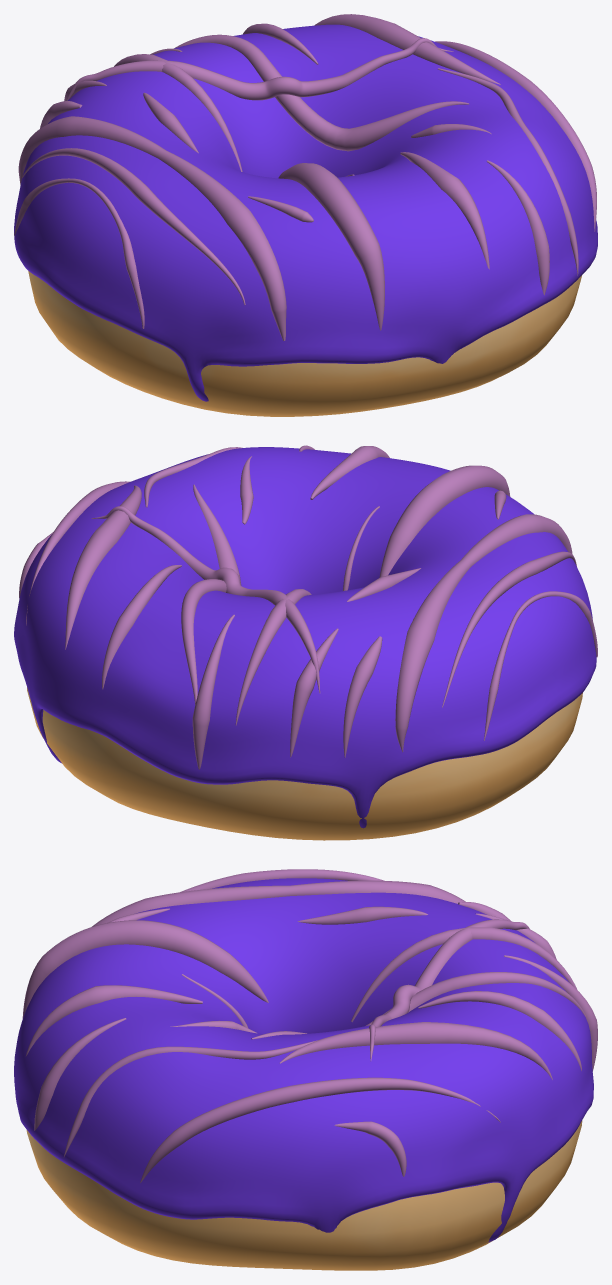
The model's file is PurpleDonut.glb.
3 views of the same model, one above another, from view 1: azimuth 30°, elevation 25°; view 2: azimuth 150°, elevation 25°; view 3: azimuth 270°, elevation 25° (orthographic).
Parts seen in each view (by area): view 1: Purple Donut.001; view 2: Purple Donut.001; view 3: Purple Donut.001.
Part boxes in pixels (bbox=[...]): Purple Donut.001: bbox=[14, 14, 597, 416]; Purple Donut.001: bbox=[14, 445, 597, 840]; Purple Donut.001: bbox=[14, 869, 597, 1270].
Size of the model in its own units: 0.6516 by 0.2928 by 0.64.
Materials: 3 (1 with a texture image).
